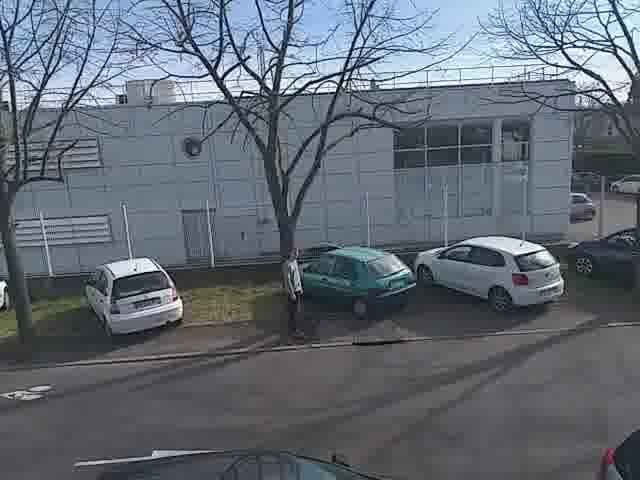persona: (273, 234, 308, 339)
